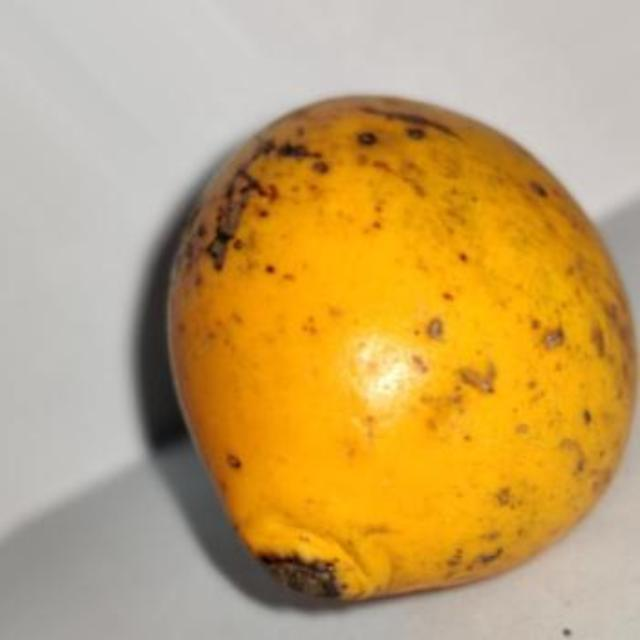good: (163, 95, 636, 605)
